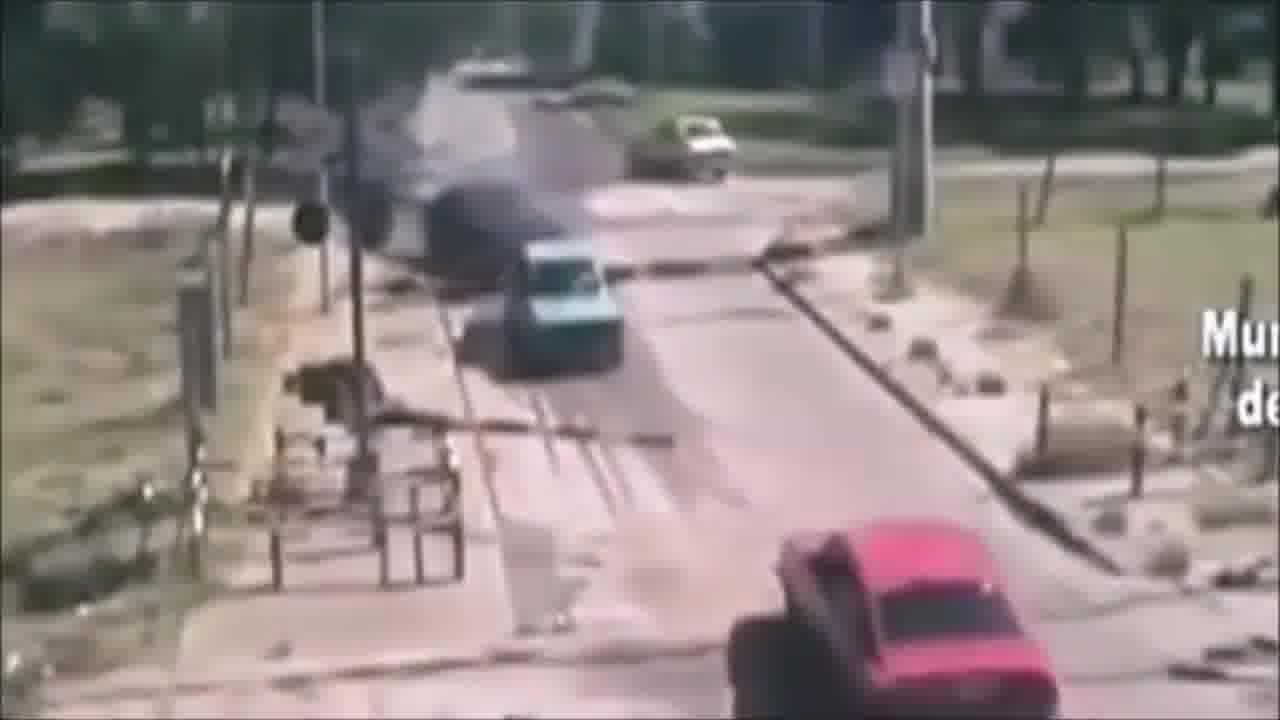crossing railway track: (750, 478, 1126, 712)
